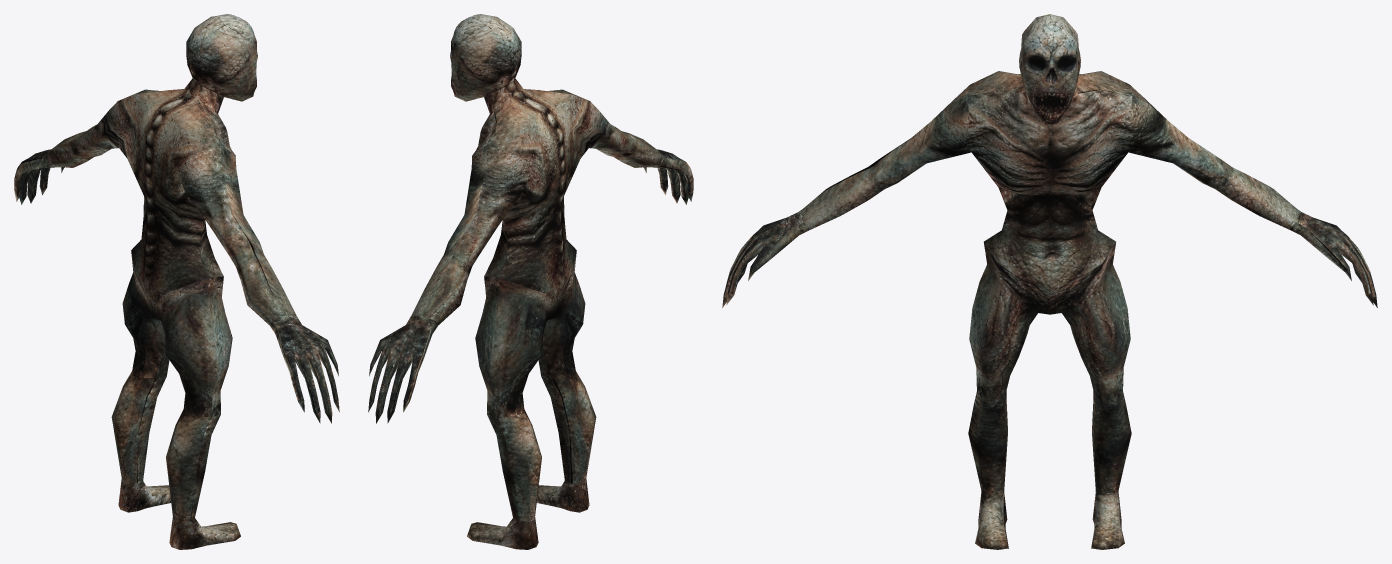
The model's file is Character_Monster_06.fbx.
The picture shows the model from 3 angles, left to right: view 1: azimuth 30°, elevation 25°; view 2: azimuth 150°, elevation 25°; view 3: azimuth 270°, elevation 25°; orthographic projection. The views are drawn at different scales.
Parts seen in each view (by area): view 1: Character_Monster_06; view 2: Character_Monster_06; view 3: Character_Monster_06.
Part boxes in pixels (left/top/right/bottom): Character_Monster_06: left=14, top=14, right=339, bottom=549; Character_Monster_06: left=368, top=14, right=693, bottom=549; Character_Monster_06: left=722, top=14, right=1377, bottom=549.
Bounding box in the file's own units: 0.4635 × 1.93 × 2.13.
